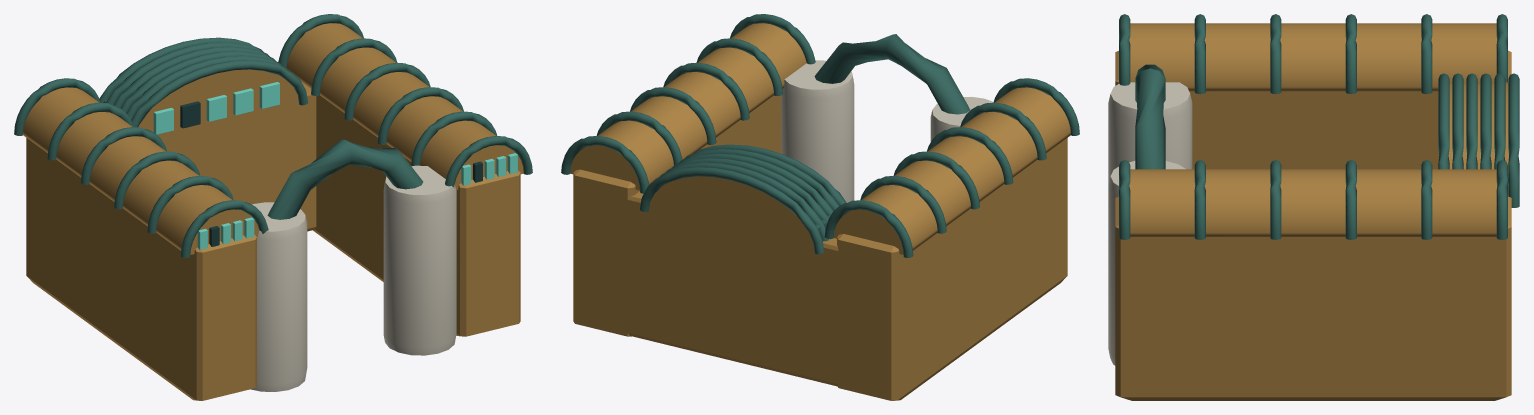
File: kharon_caravanserai.glb
3 renders of one model, left to right at view 1: azimuth 30°, elevation 25°; view 2: azimuth 150°, elevation 25°; view 3: azimuth 270°, elevation 25°, orthographic. The views are drawn at different scales.
Visible parts, largest first — view 1: kharon_caravanserai; view 2: kharon_caravanserai; view 3: kharon_caravanserai.
Part boxes in pixels (box(x1,y1,x2,y2)): kharon_caravanserai: box(14, 14, 532, 400); kharon_caravanserai: box(561, 14, 1079, 400); kharon_caravanserai: box(1108, 14, 1519, 400).
Bounding box in the file's own units: 19.72 × 11.75 × 17.64.
